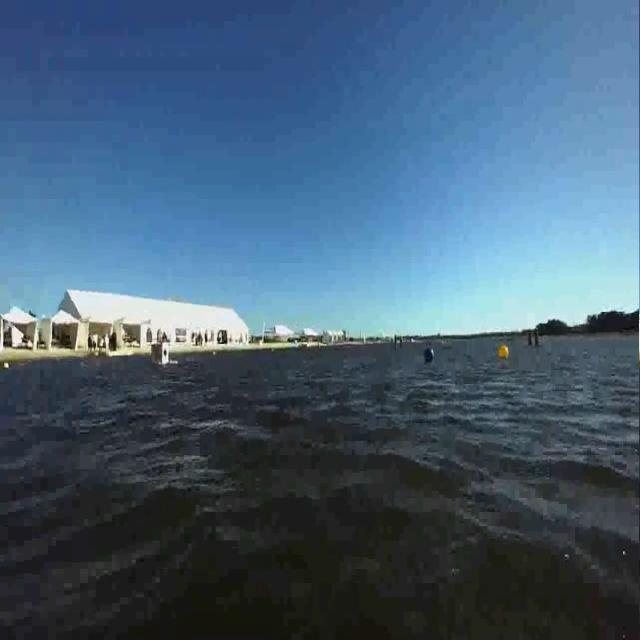blue-buoy: (424, 346, 434, 363)
yellow-buoy: (498, 342, 510, 360)
